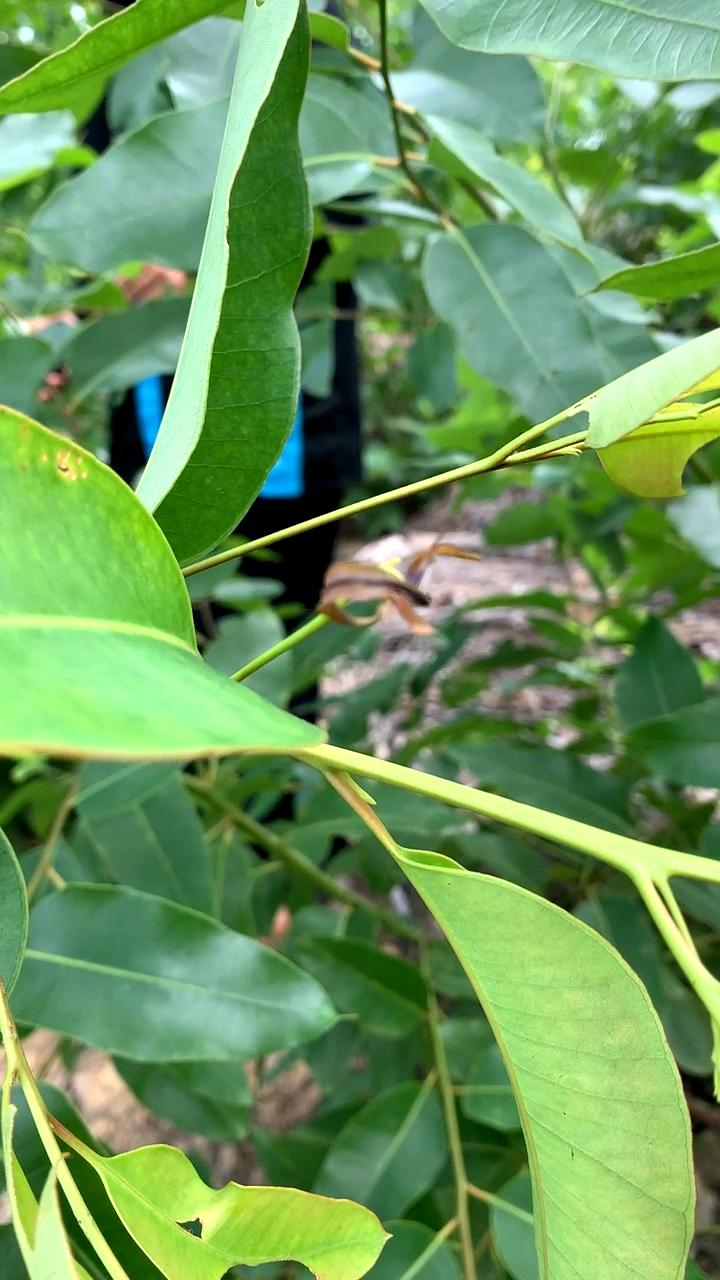Helopeltis-Withered Sprout: (311, 546, 473, 640)
